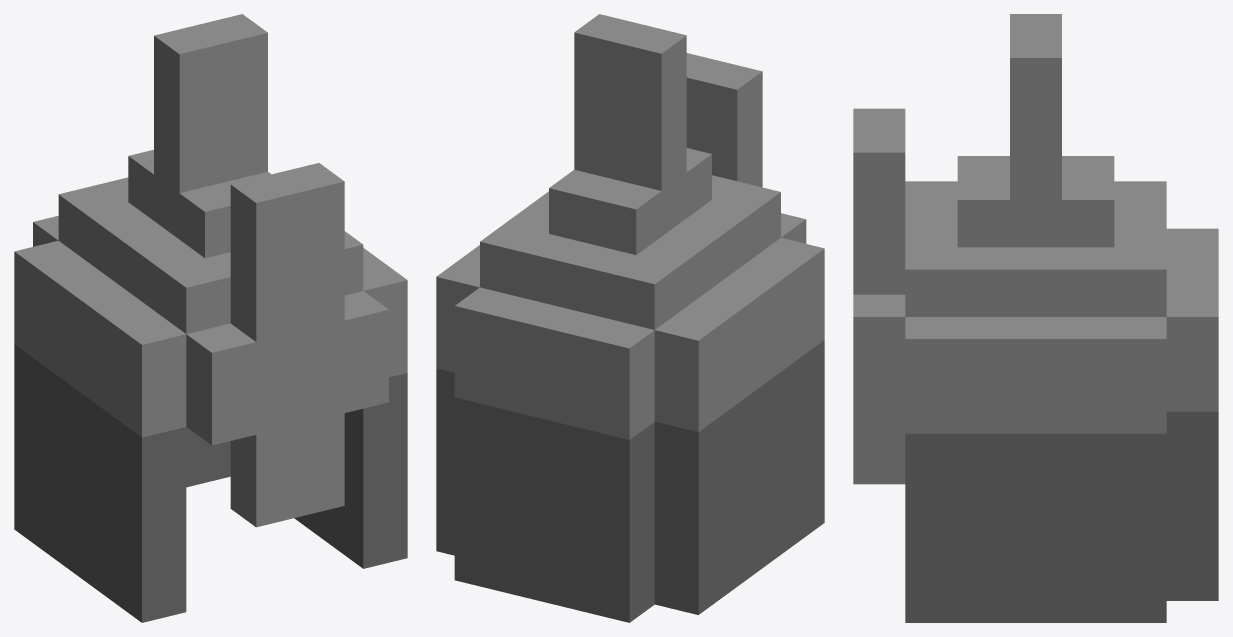
Rendered from characters_export_red-163-helm_med_1f_sh.obj.
3 renders of one model, left to right at view 1: azimuth 30°, elevation 25°; view 2: azimuth 150°, elevation 25°; view 3: azimuth 270°, elevation 25°, orthographic. The views are drawn at different scales.
Visible parts, largest first — view 1: helm_med_1f_sh; view 2: helm_med_1f_sh; view 3: helm_med_1f_sh.
Boxes of the visible parts, x1=… form: helm_med_1f_sh: x1=14, y1=14, x2=407, y2=622; helm_med_1f_sh: x1=436, y1=14, x2=824, y2=622; helm_med_1f_sh: x1=853, y1=14, x2=1218, y2=622.
Size of the model in its own units: 0.6 by 1.1 by 0.7.
1 material, 1 textured.
